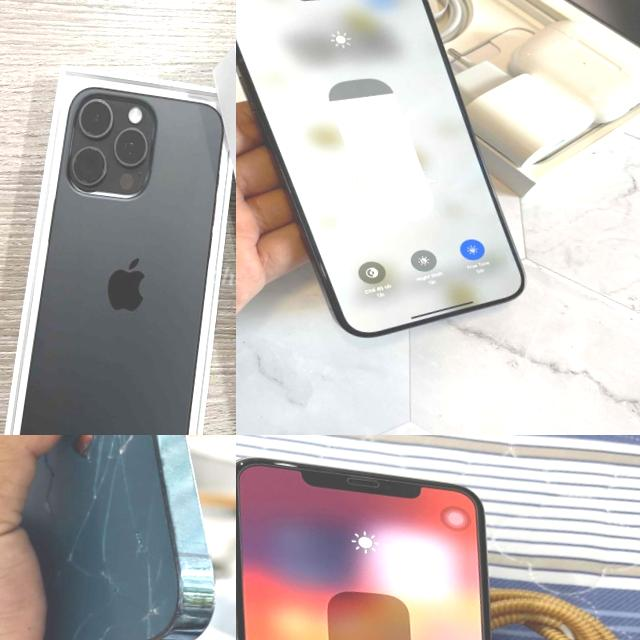gen_11: (236, 438, 563, 640)
gen_12_13: (0, 435, 236, 640)
gen_15: (236, 0, 578, 357), (3, 60, 236, 435)
physical_damage: (0, 435, 222, 640)
scratch: (160, 543, 233, 640), (270, 455, 303, 470), (236, 453, 249, 486)
